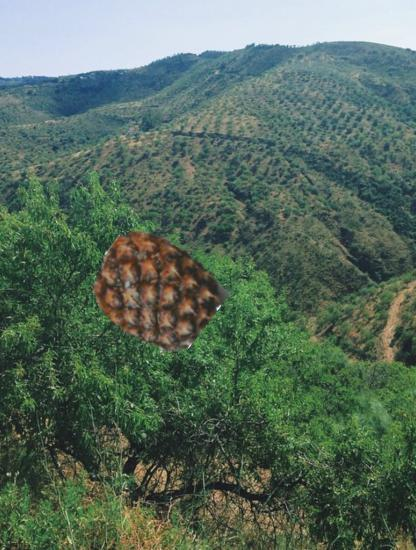Pineapple: (94, 227, 218, 351)
